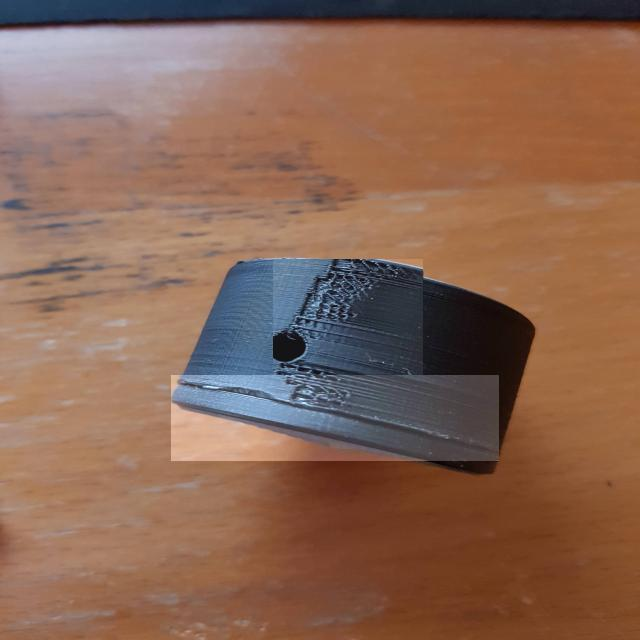cracking: (171, 375, 499, 461)
